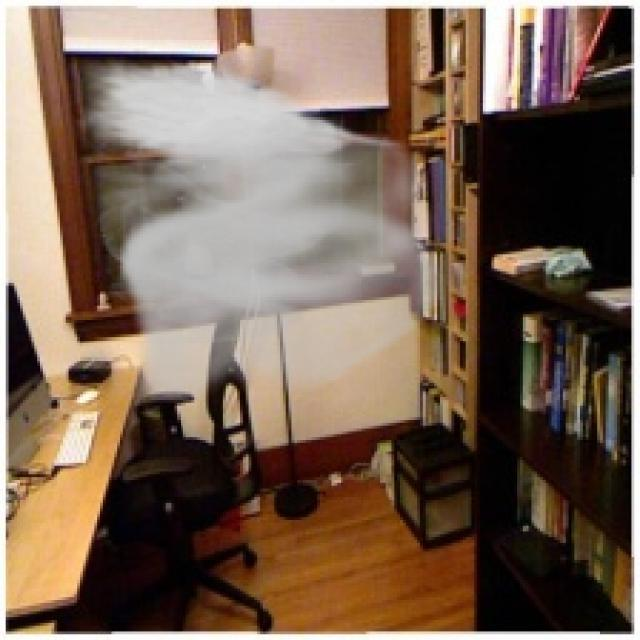Smoke: (74, 57, 454, 403)
